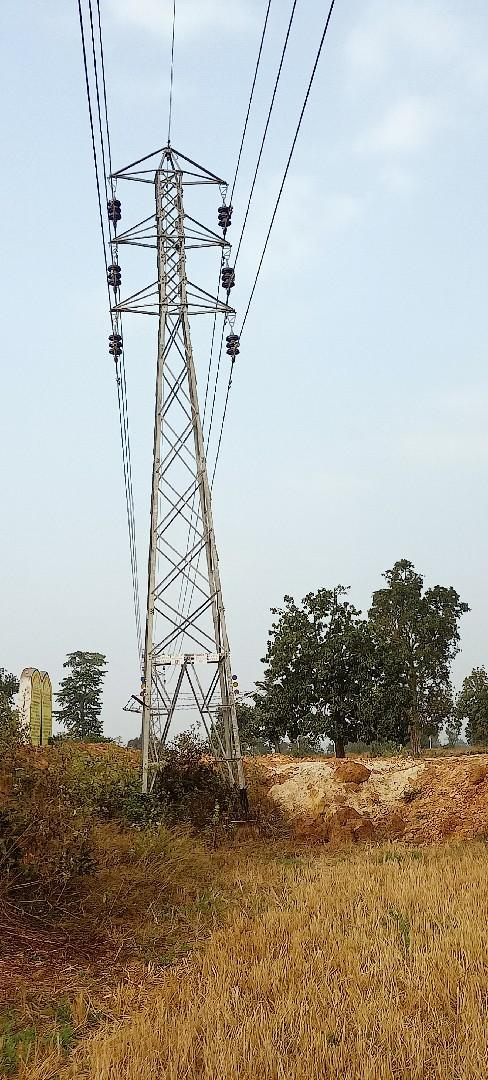GSM Antenna: (103, 141, 264, 755)
